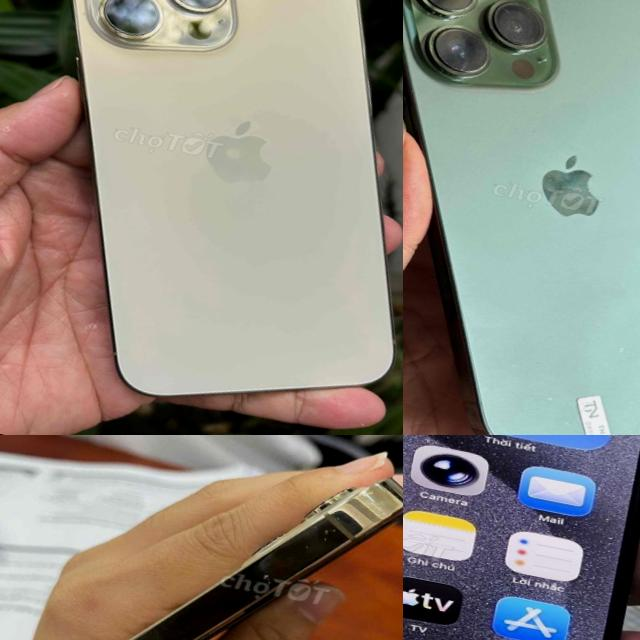gen_12_13: (403, 0, 640, 435), (53, 435, 403, 640)
gen_14: (0, 0, 403, 435)
gen_15: (403, 435, 640, 640)
scratch: (243, 496, 363, 623)
